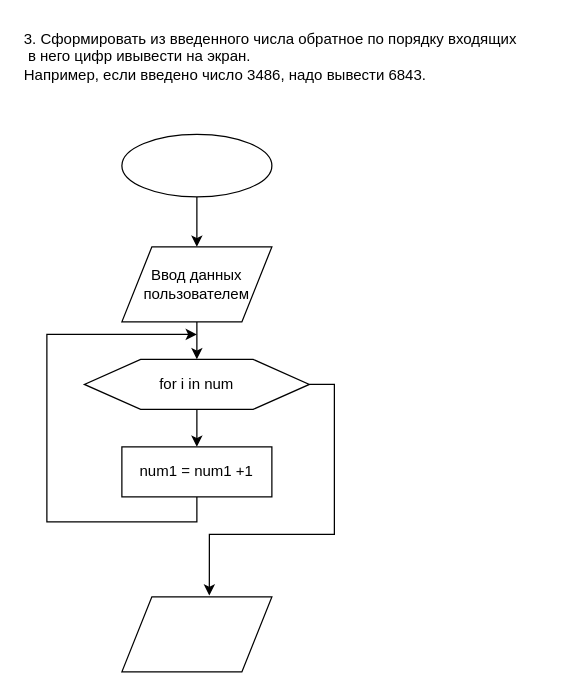
Image size: 568x694. Some labels were removed from this diagram. The box of each missing label's shape, as (x1, y1, x2, y2) in pixels:
вывод данных: (121, 596, 272, 672)
Начало: (121, 133, 272, 197)
